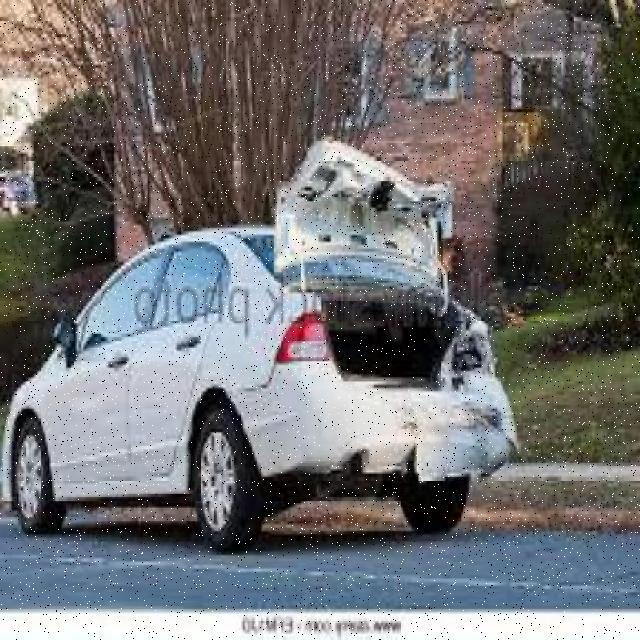damage: (278, 141, 516, 484)
